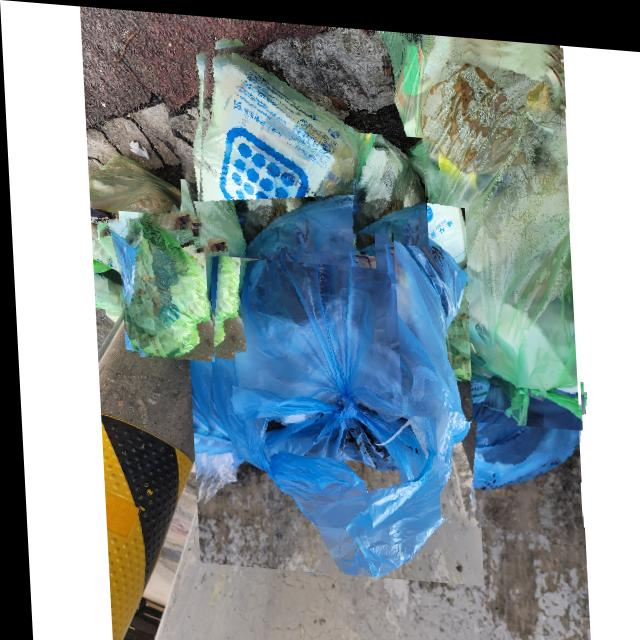general_trashbag: (384, 26, 572, 416), (199, 48, 370, 252), (127, 214, 209, 354), (351, 128, 424, 227)
other_trashbag: (203, 190, 473, 571), (434, 368, 580, 510)
